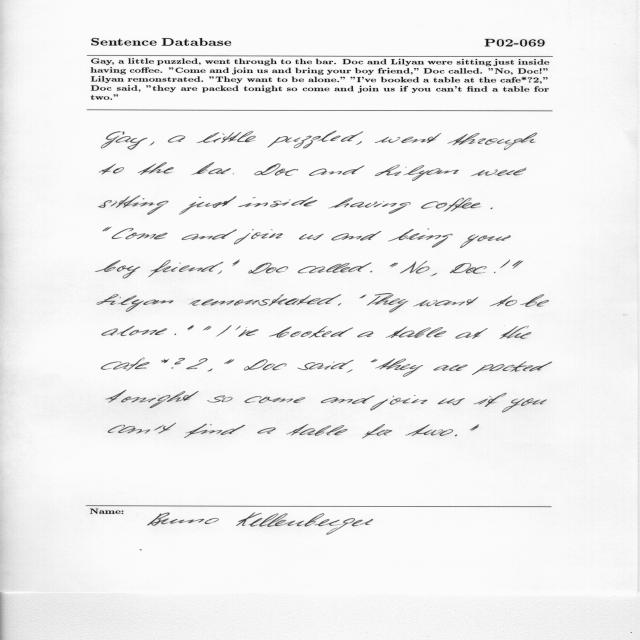word: (189, 294, 342, 306), (108, 423, 222, 438), (106, 390, 199, 408), (268, 131, 364, 148), (448, 133, 538, 150), (97, 294, 174, 312), (102, 358, 208, 371), (330, 197, 411, 214), (375, 165, 459, 181), (99, 196, 169, 215), (149, 260, 224, 277), (388, 229, 453, 248), (472, 361, 552, 375), (179, 196, 237, 215), (269, 326, 353, 338), (370, 395, 428, 411), (102, 131, 148, 150), (238, 197, 317, 208), (375, 359, 423, 377), (421, 198, 481, 212), (450, 260, 510, 274), (298, 263, 372, 274), (367, 294, 409, 313), (96, 260, 140, 278), (286, 424, 348, 436), (234, 229, 283, 244), (386, 326, 446, 338), (460, 234, 511, 248), (197, 131, 256, 143), (502, 398, 547, 413), (375, 133, 441, 143), (102, 326, 167, 336), (309, 165, 365, 176), (112, 228, 168, 239), (181, 229, 237, 240), (413, 297, 478, 306), (406, 424, 454, 436), (297, 360, 354, 370), (254, 164, 298, 176), (191, 162, 231, 175), (244, 359, 287, 371), (332, 231, 382, 241), (138, 162, 174, 175), (474, 393, 507, 407), (471, 168, 527, 176), (248, 263, 288, 274), (321, 396, 375, 404), (245, 396, 306, 403), (362, 424, 392, 438), (500, 326, 532, 339), (210, 424, 245, 435), (400, 261, 429, 274), (520, 294, 549, 307), (455, 328, 488, 339), (494, 260, 521, 273), (99, 164, 124, 175), (216, 326, 241, 337), (490, 296, 517, 306), (434, 364, 468, 371), (238, 327, 259, 337), (438, 398, 465, 405), (207, 396, 233, 403), (299, 234, 324, 240), (257, 427, 276, 434), (168, 136, 185, 143), (357, 332, 374, 338), (513, 261, 523, 269), (470, 424, 479, 431), (224, 359, 234, 364), (233, 260, 240, 266), (203, 326, 211, 331), (389, 263, 398, 267), (103, 227, 111, 231), (188, 326, 194, 331), (360, 295, 367, 299), (150, 141, 155, 146), (356, 141, 362, 145), (347, 369, 353, 373), (371, 359, 378, 362), (431, 273, 437, 276), (208, 369, 213, 372), (218, 271, 222, 274), (338, 303, 341, 306), (490, 208, 493, 210), (370, 271, 372, 273), (455, 435, 457, 437), (175, 334, 176, 336), (233, 174, 234, 175)
